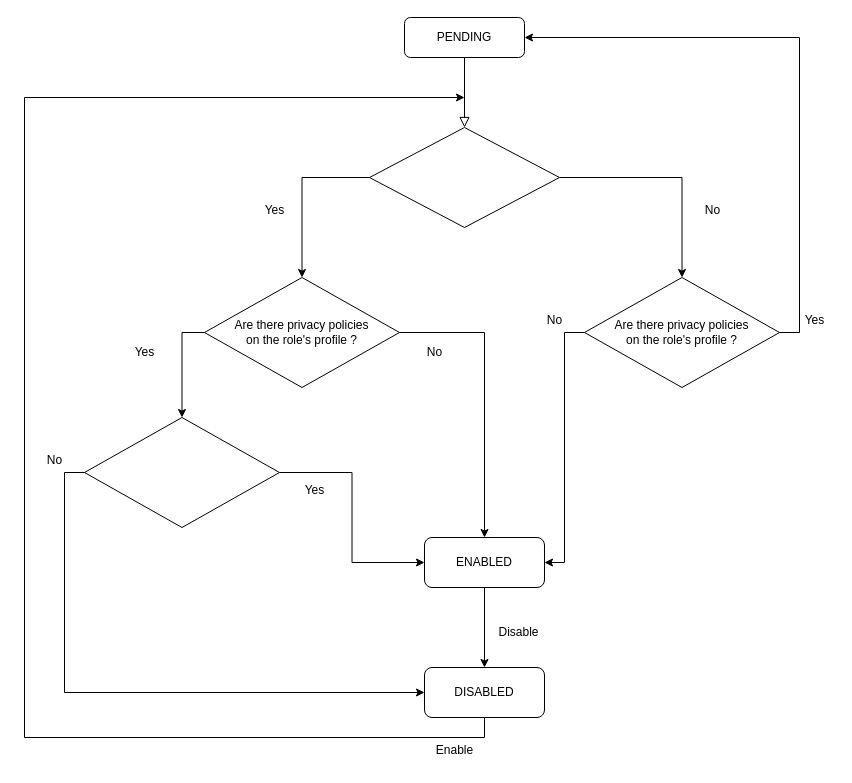
This 852x783 diagram has some shape labels left out. The box of each missing label's shape, as (x1, y1, x2, y2) in pixels:
Does the user accept the privacy policies ?: (84, 416, 280, 528)
Is the user performing operation on themselves ?: (368, 126, 560, 228)
